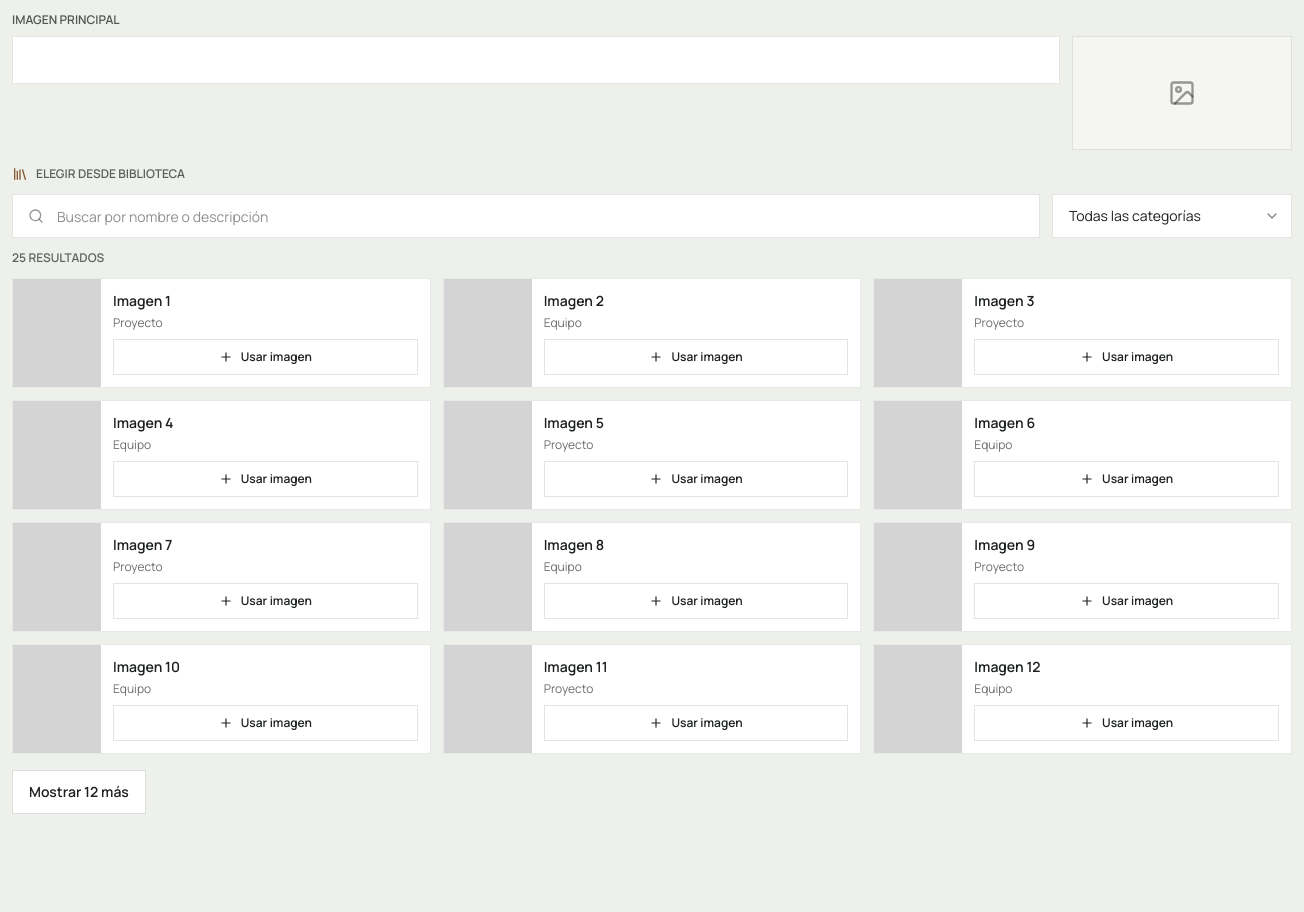
it: MediaImageField library › searches approved assets beyond the initial server selection
The width and height of the screenshot is (1304, 912).
Type "histórico" into the search field named "buscar imágenes".
click(526, 216); type("histórico")  # box top-left (12, 194), bottom-right (1040, 238)
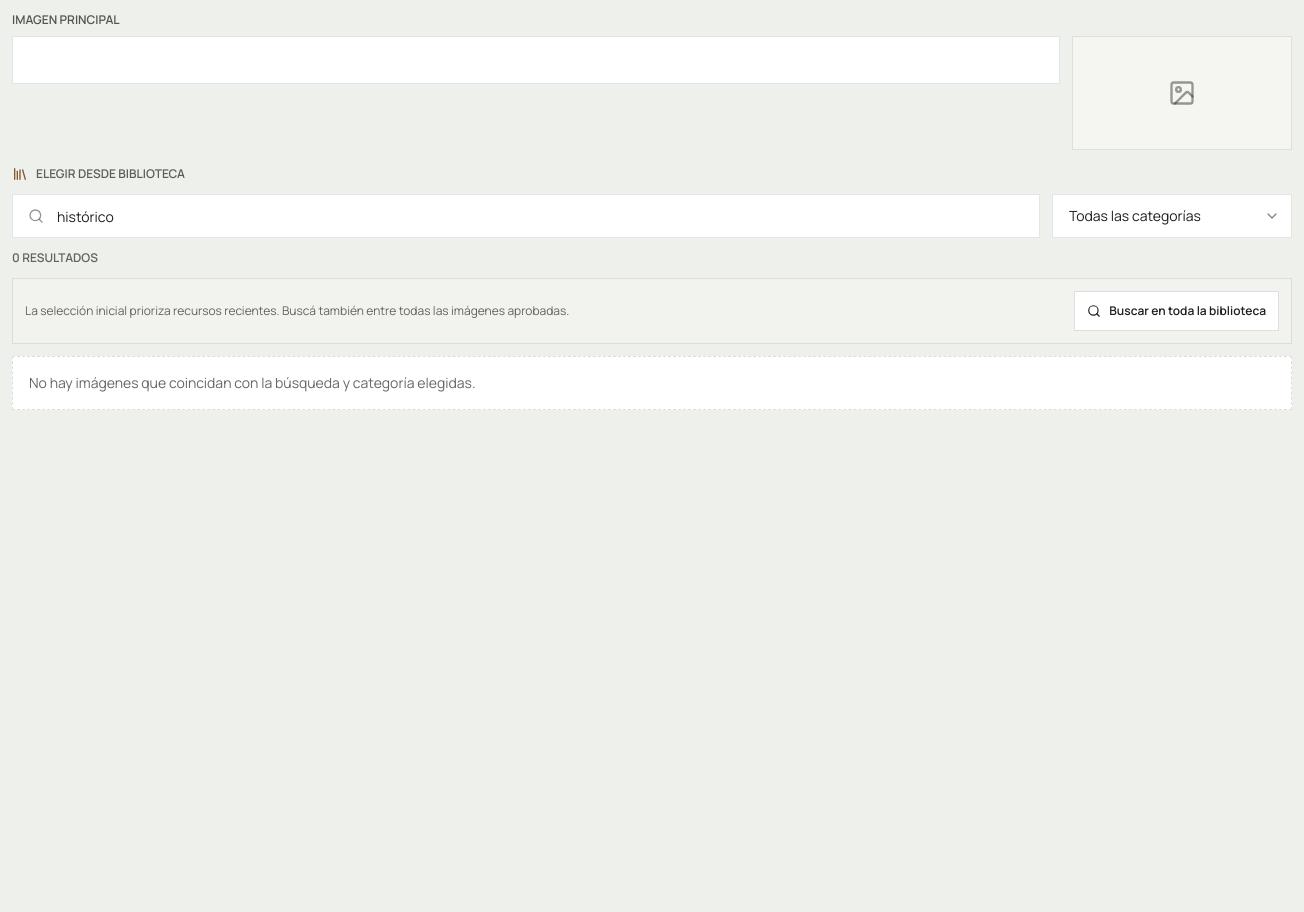
Click the button "Buscar en toda la biblioteca".
click(1177, 311)  # box top-left (1074, 291), bottom-right (1279, 331)
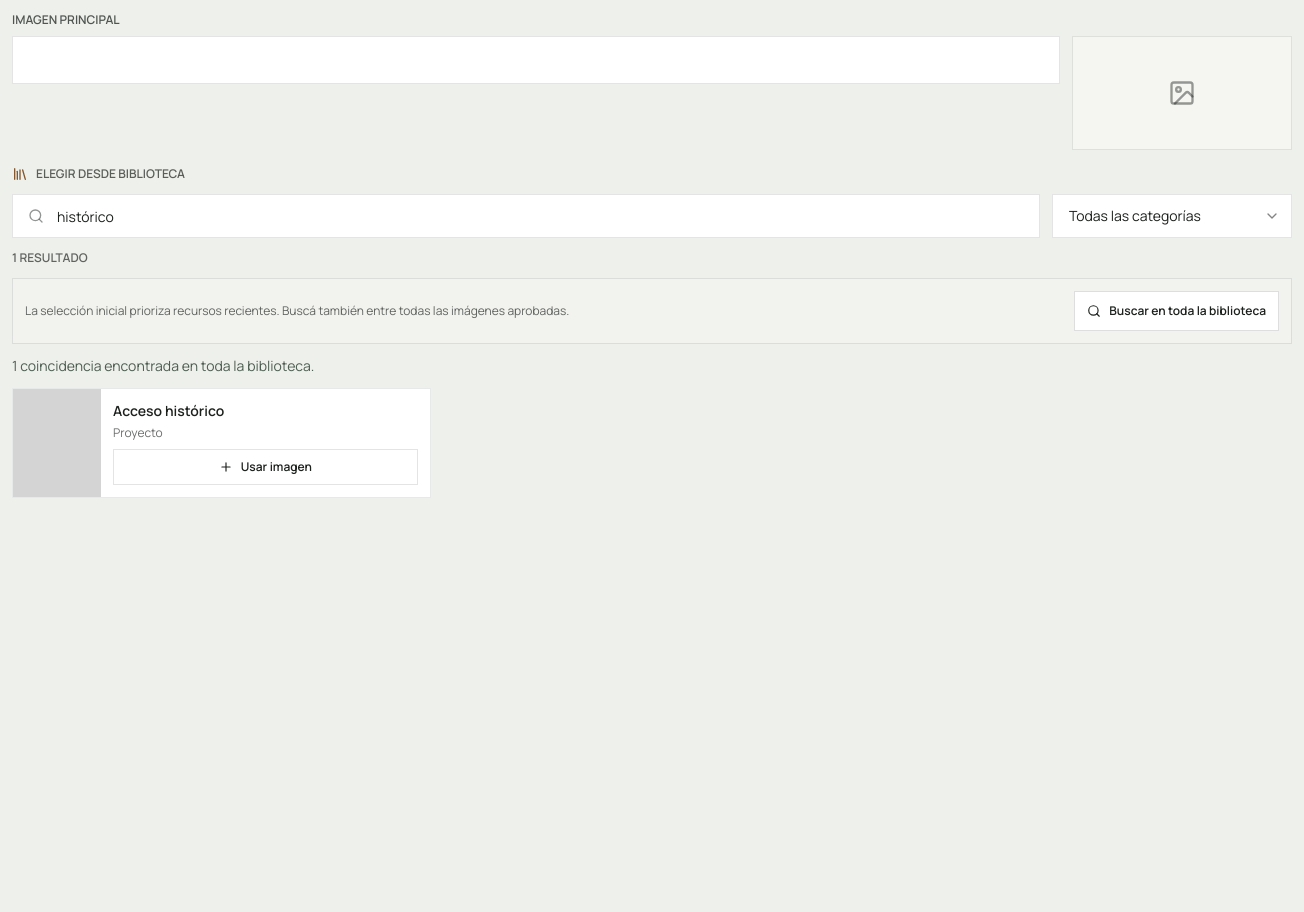
Result: the button with aria-label "Usar Acceso histórico" is shown
Click the button with aria-label "Usar Acceso histórico".
click(265, 467)  # box top-left (113, 449), bottom-right (418, 485)
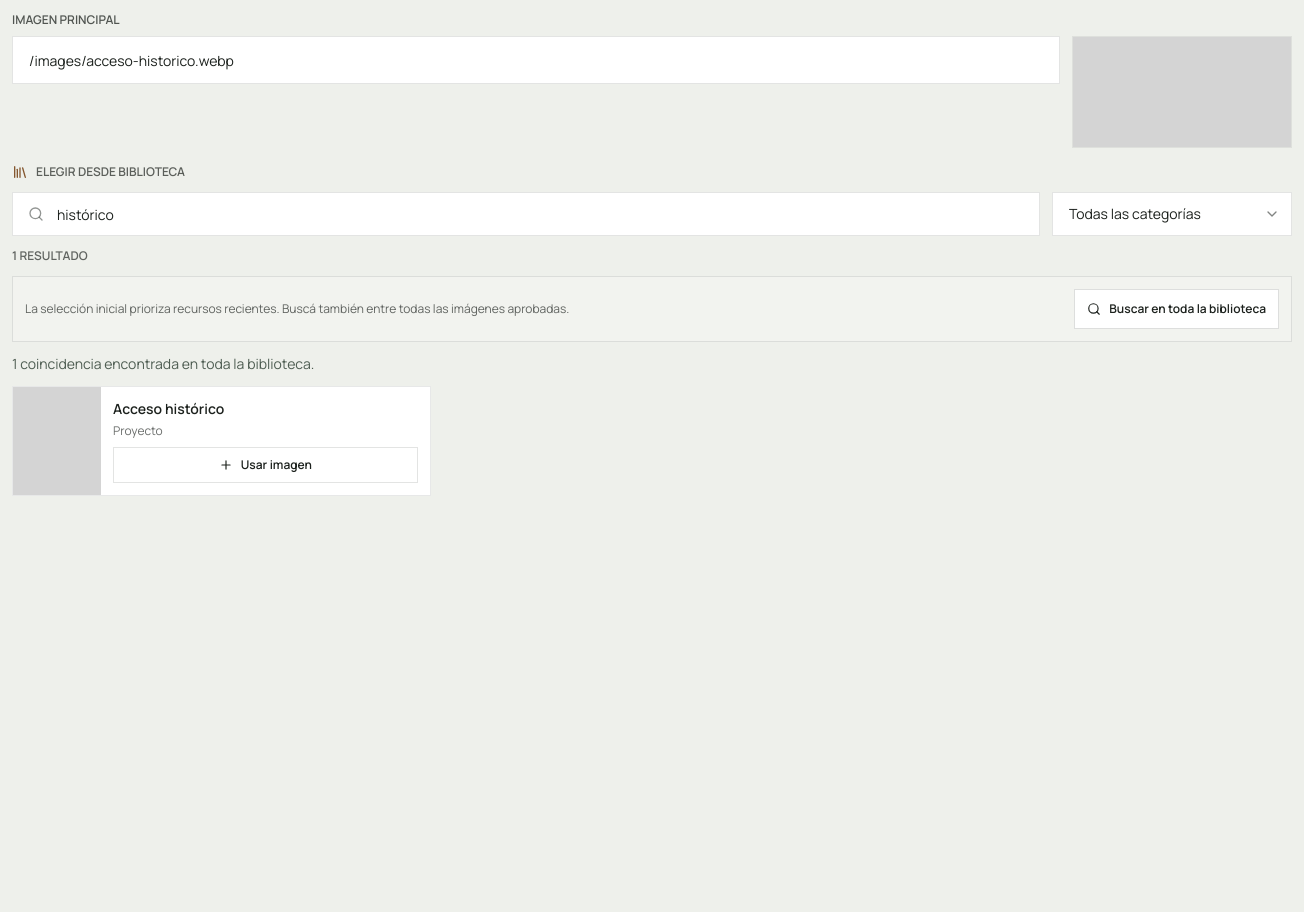
Result: the field labelled "Imagen principal" holds "/images/acceso-historico.webp" at top-left (12, 36), bottom-right (1060, 84)
